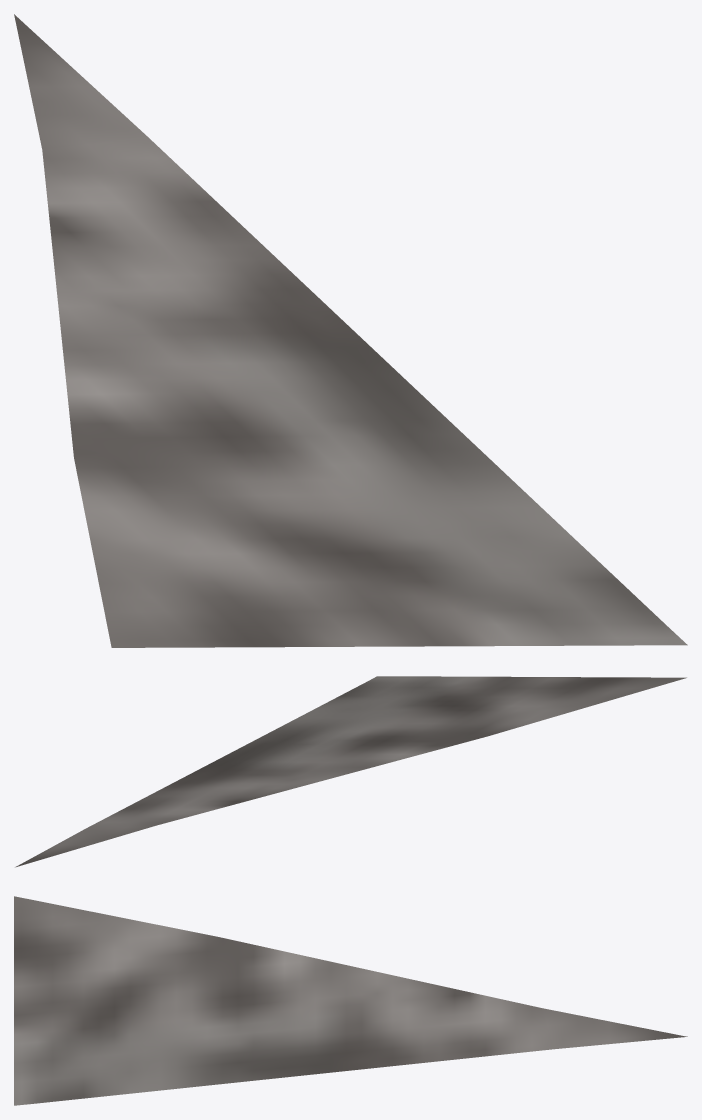
The picture shows the model from 3 angles, top to bottom: view 1: azimuth 30°, elevation 25°; view 2: azimuth 150°, elevation 25°; view 3: azimuth 270°, elevation 25°; orthographic projection. The views are drawn at different scales.
Size of the model in its own units: 0.0686 by 0.0157 by 0.1389.
1 material, 1 textured.
